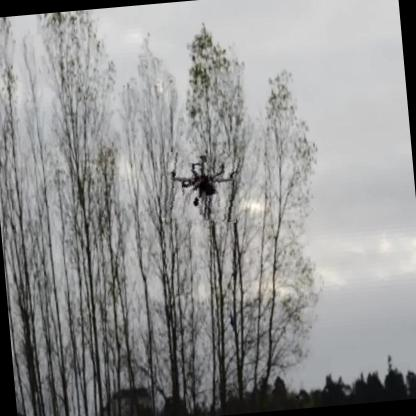drone: (160, 148, 244, 227)
